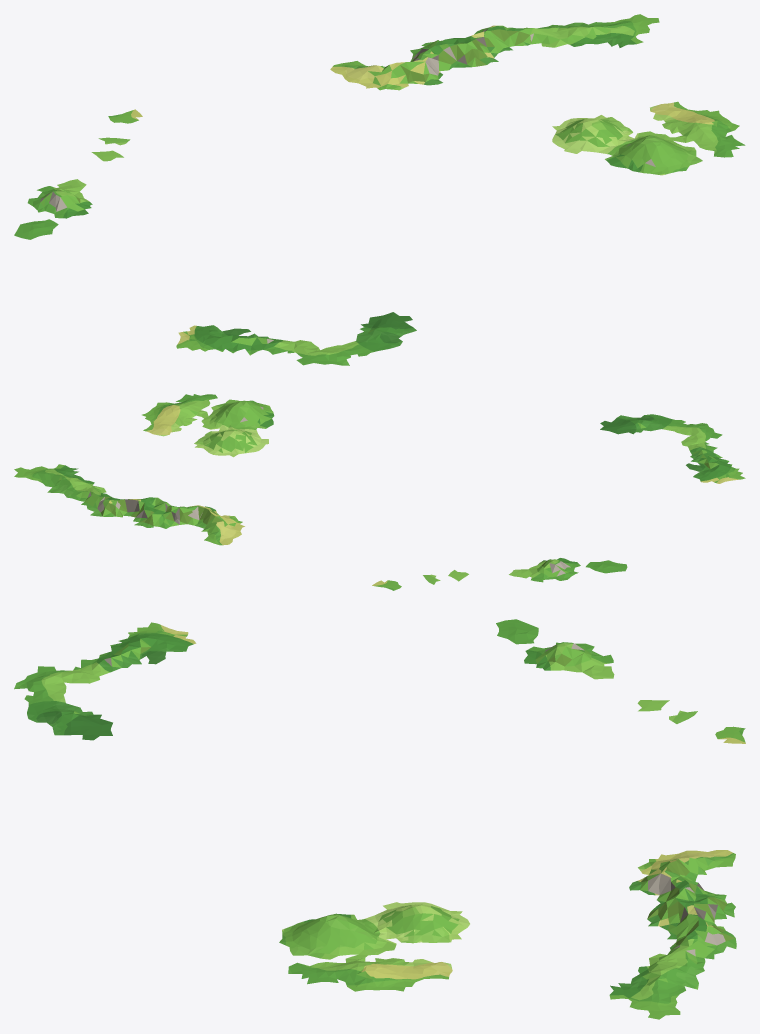
File: Isl-start3-Relief.fbx
The picture shows the model from 3 angles, top to bottom: view 1: azimuth 30°, elevation 25°; view 2: azimuth 150°, elevation 25°; view 3: azimuth 270°, elevation 25°; orthographic projection. The views are drawn at different scales.
Parts seen in each view (by area): view 1: Isl-start3-Relief-c22, Isl-start3-Relief-c21, Isl-start3-Relief-c11, Isl-start3-Relief-c12, Isl-start3-Relief-c32, Isl-start3-Relief-c31; view 2: Isl-start3-Relief-c22, Isl-start3-Relief-c21, Isl-start3-Relief-c11, Isl-start3-Relief-c12, Isl-start3-Relief-c32, Isl-start3-Relief-c31; view 3: Isl-start3-Relief-c22, Isl-start3-Relief-c21, Isl-start3-Relief-c11, Isl-start3-Relief-c12, Isl-start3-Relief-c32, Isl-start3-Relief-c31.
Part boxes in pixels (<box>): Isl-start3-Relief-c22: <box>330,24,674,133</box>; Isl-start3-Relief-c21: <box>552,104,739,175</box>; Isl-start3-Relief-c11: <box>176,312,416,365</box>; Isl-start3-Relief-c12: <box>14,109,142,239</box>; Isl-start3-Relief-c32: <box>569,14,679,105</box>; Isl-start3-Relief-c31: <box>677,104,745,148</box>; Isl-start3-Relief-c22: <box>60,429,244,545</box>; Isl-start3-Relief-c21: <box>147,394,274,453</box>; Isl-start3-Relief-c11: <box>600,414,745,483</box>; Isl-start3-Relief-c12: <box>372,558,627,590</box>; Isl-start3-Relief-c32: <box>14,429,150,492</box>; Isl-start3-Relief-c31: <box>142,394,196,428</box>; Isl-start3-Relief-c22: <box>439,850,736,977</box>; Isl-start3-Relief-c21: <box>279,902,443,978</box>; Isl-start3-Relief-c11: <box>14,622,196,740</box>; Isl-start3-Relief-c12: <box>496,619,745,743</box>; Isl-start3-Relief-c32: <box>440,968,698,1019</box>; Isl-start3-Relief-c31: <box>302,966,440,991</box>.
Size of the model in its own units: 100 by 2.72 by 77.5.
